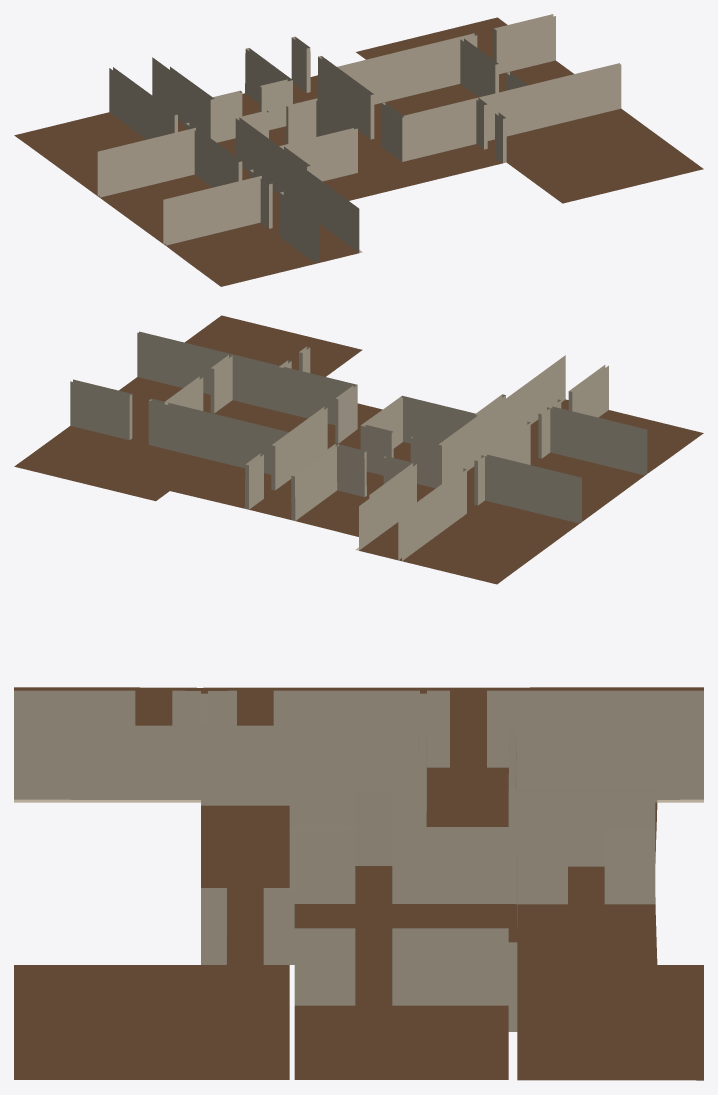
The model's file is Main_block_Interior_FL1 1.fbx.
3 renders of one model, top to bottom at view 1: azimuth 30°, elevation 25°; view 2: azimuth 150°, elevation 25°; view 3: azimuth 270°, elevation 25°, orthographic. The views are drawn at different scales.
Visible parts, largest first — view 1: FL1.Interior.LP; view 2: FL1.Interior.LP; view 3: FL1.Interior.LP.
Part boxes in pixels (x1,y1,x2,y2): FL1.Interior.LP: (14, 14, 703, 286); FL1.Interior.LP: (14, 315, 703, 584); FL1.Interior.LP: (14, 687, 703, 1080).
Size of the model in its own units: 39.82 by 3.5 by 29.53.
